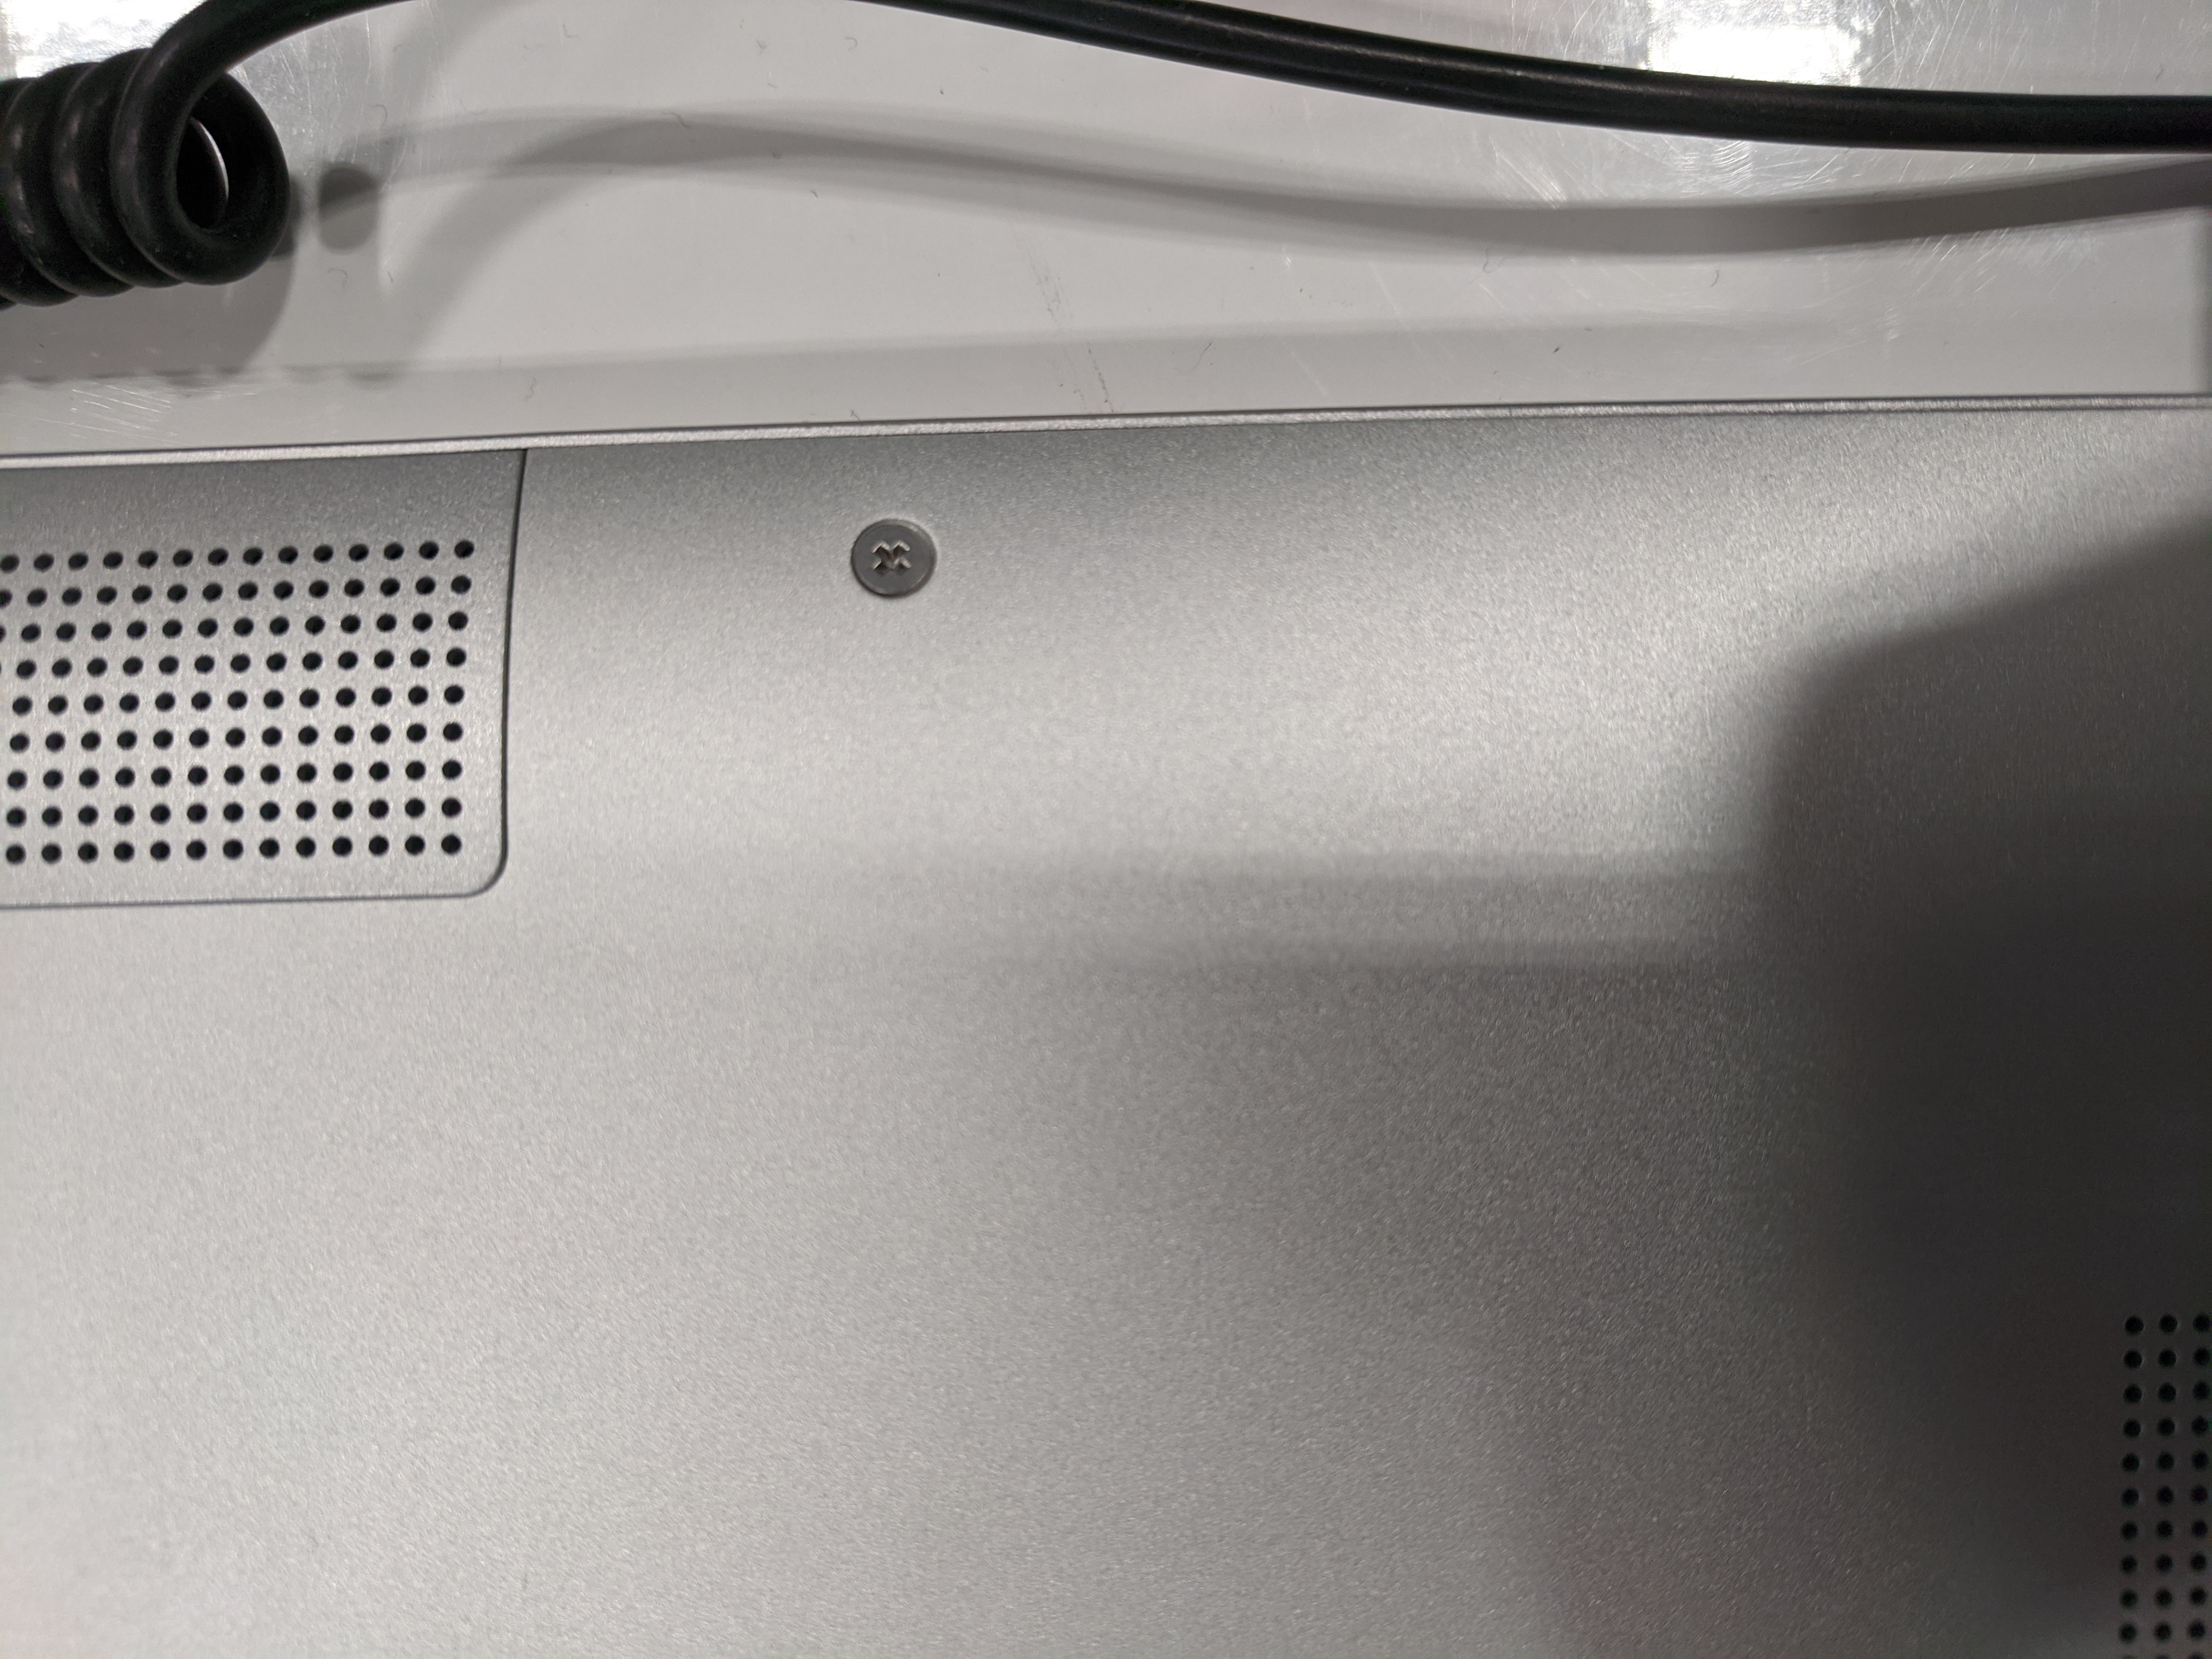cross_recessed_screw: (836, 512, 948, 599)
